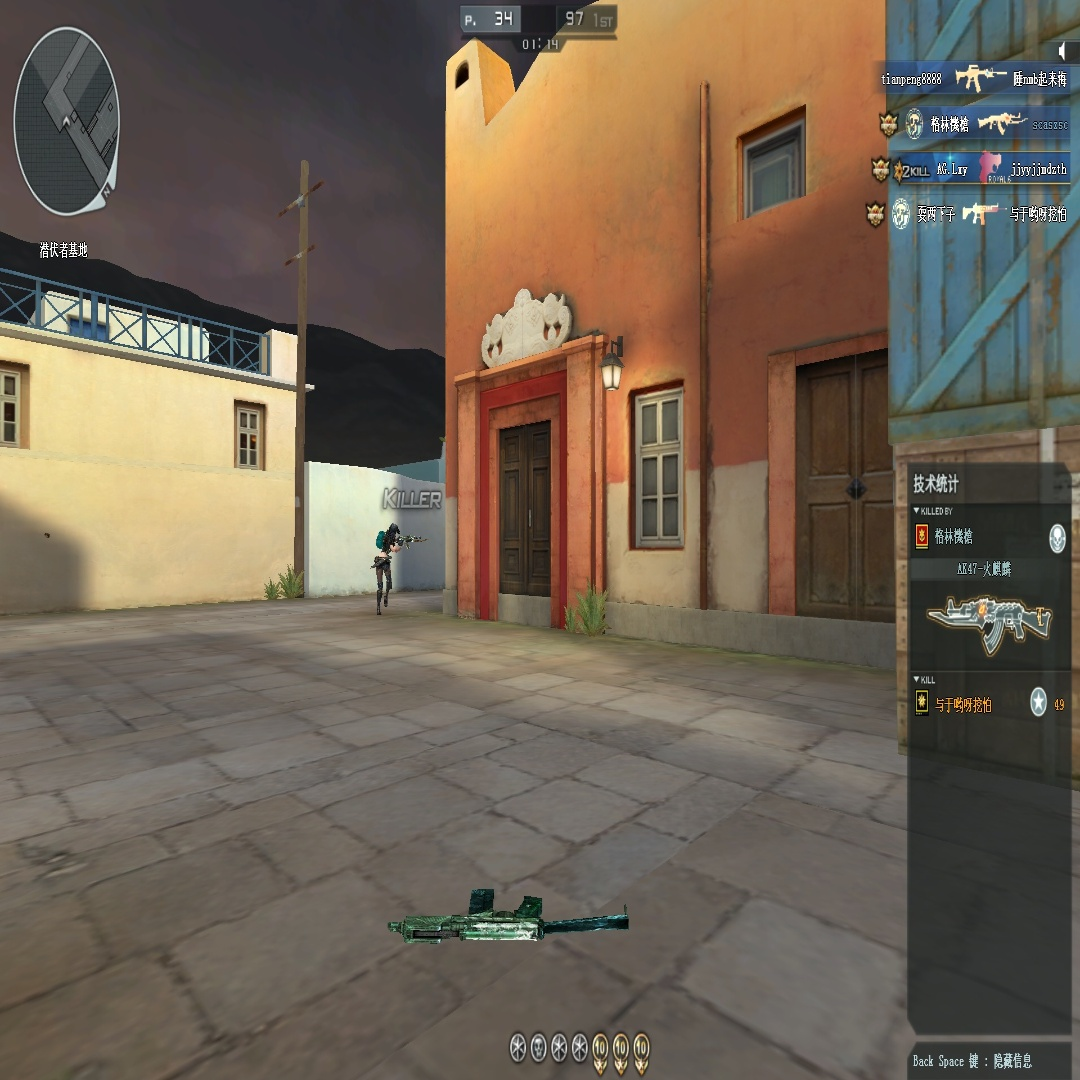head: (389, 523, 400, 537)
p: (372, 524, 400, 610)
